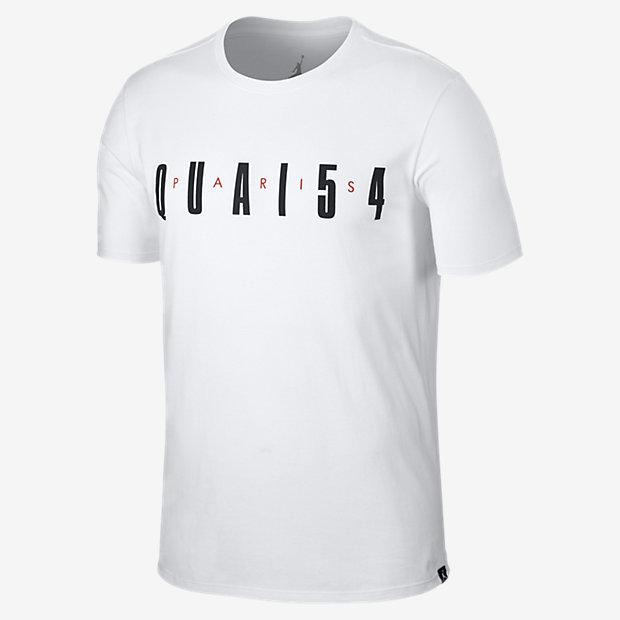teeshirt: (79, 11, 550, 600)
